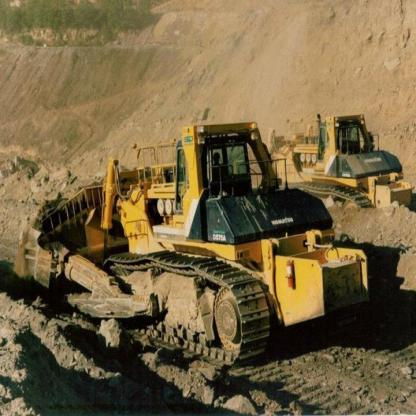bull_dozer/loader/grader: (20, 110, 394, 388)
